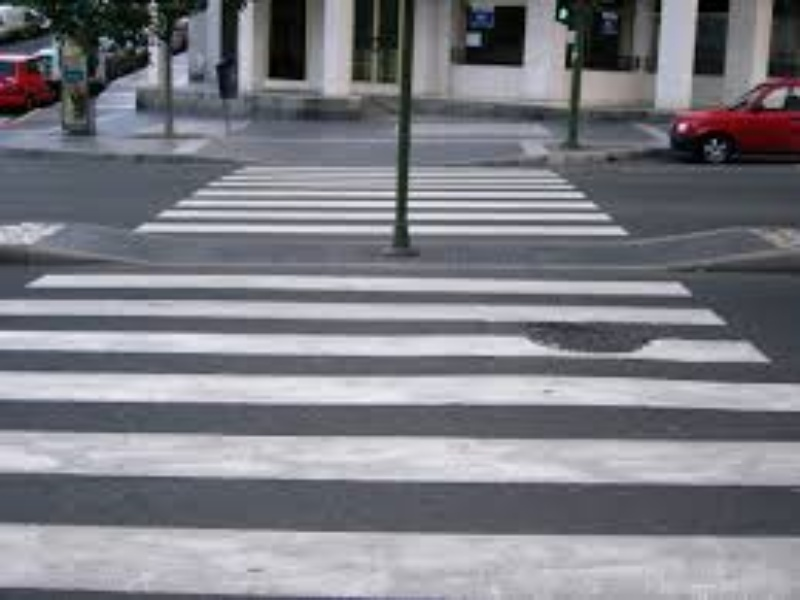zebra cross: (1, 163, 798, 597)
